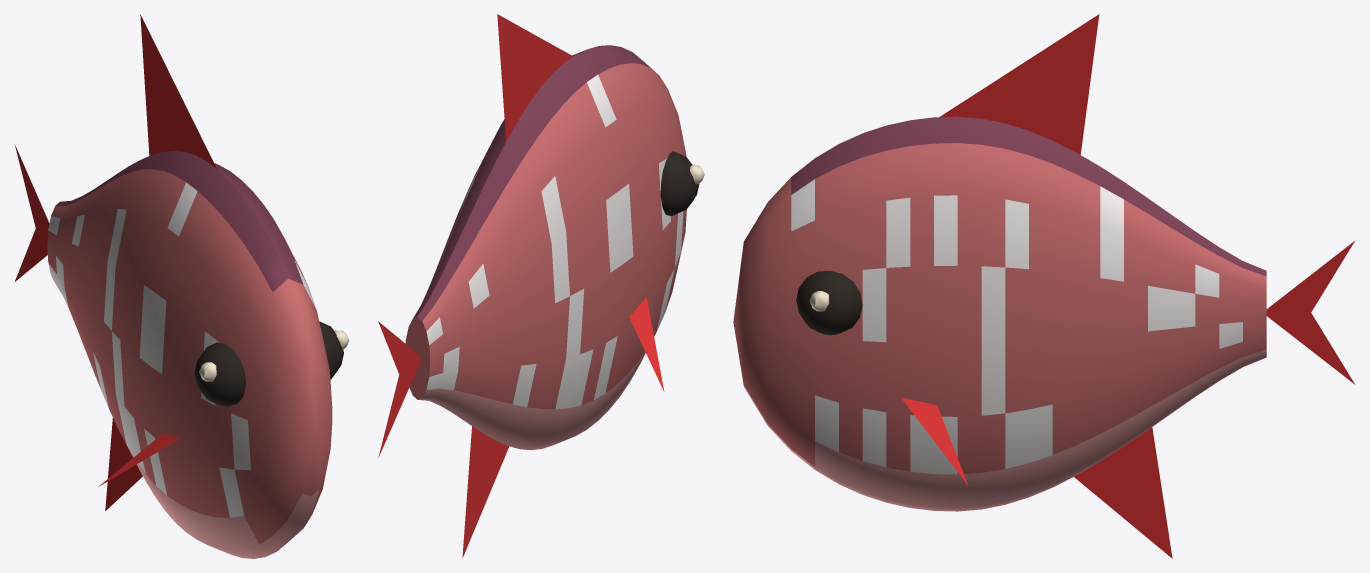
The model's file is opah.fbx.
The picture shows the model from 3 angles, left to right: view 1: azimuth 30°, elevation 25°; view 2: azimuth 150°, elevation 25°; view 3: azimuth 270°, elevation 25°; orthographic projection. The views are drawn at different scales.
Parts seen in each view (by area): view 1: Fish_opah_EXP; view 2: Fish_opah_EXP; view 3: Fish_opah_EXP.
Boxes of the visible parts, x1,y1,x2,y2 form: Fish_opah_EXP: [14, 14, 349, 558]; Fish_opah_EXP: [378, 14, 704, 558]; Fish_opah_EXP: [733, 14, 1354, 558].
Size of the model in its own units: 0.292 by 0.69 by 0.714.
